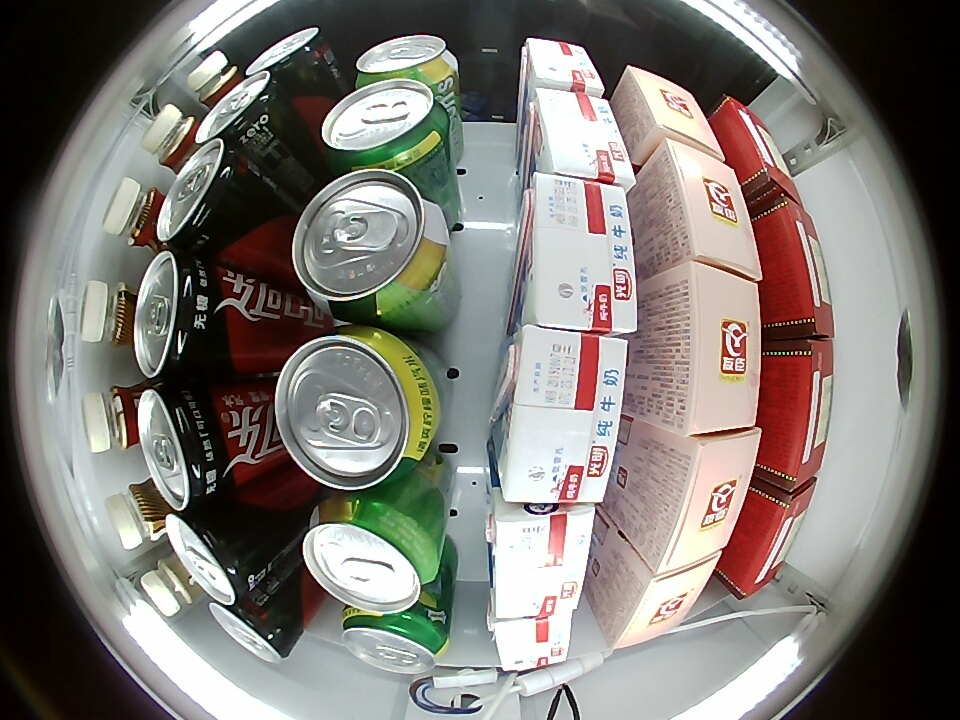haoliyou: (723, 476, 817, 600), (758, 340, 834, 491), (761, 193, 835, 338), (715, 97, 800, 203)
kafei: (105, 476, 183, 550), (82, 381, 157, 452), (103, 176, 171, 254), (140, 550, 204, 618), (142, 105, 202, 174), (80, 280, 139, 350), (188, 48, 246, 110)
lingdukele: (138, 382, 237, 511), (133, 251, 231, 381), (157, 138, 251, 258), (166, 503, 268, 605), (195, 72, 298, 163), (245, 27, 333, 100), (209, 593, 297, 663)
niunai: (499, 322, 628, 505), (521, 172, 638, 337), (485, 504, 596, 619), (528, 87, 637, 190), (488, 610, 573, 671), (521, 38, 604, 97)
quchenshixiangcao: (292, 169, 446, 323), (302, 496, 440, 613), (354, 34, 458, 89)
rousongbing: (653, 261, 761, 437), (642, 426, 763, 574), (651, 138, 763, 280), (609, 550, 723, 648), (620, 65, 724, 159)
xuebi2: (274, 326, 441, 491), (321, 79, 450, 173), (341, 607, 449, 675)
